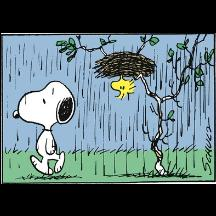snoopy: (11, 78, 77, 175)
